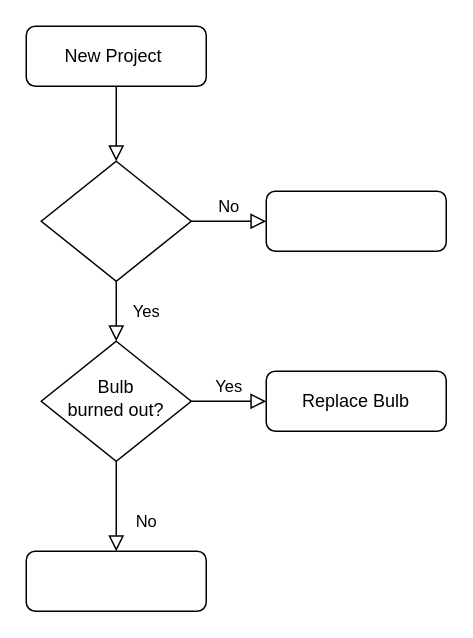
This 473x638 diagram has some shape labels left out. The shapes that lost their labels are listed below. From the top down, each one's centre as x and y in pixels, then its label:
At pixel 355 220: "Plug in lamp".
At pixel 115 580: "Repair Lamp".
